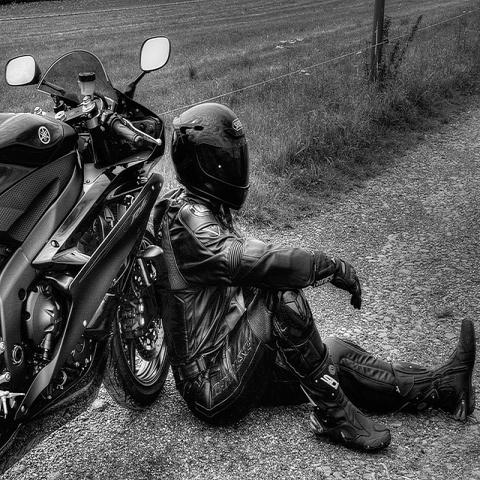motorcycle: (2, 36, 171, 457)
